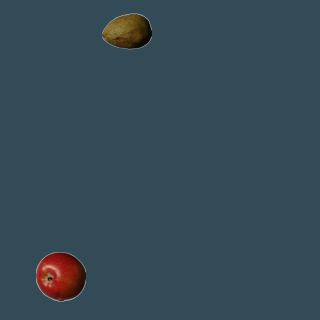Apple Braeburn: (35, 251, 85, 301)
Papaya: (101, 6, 151, 56)
